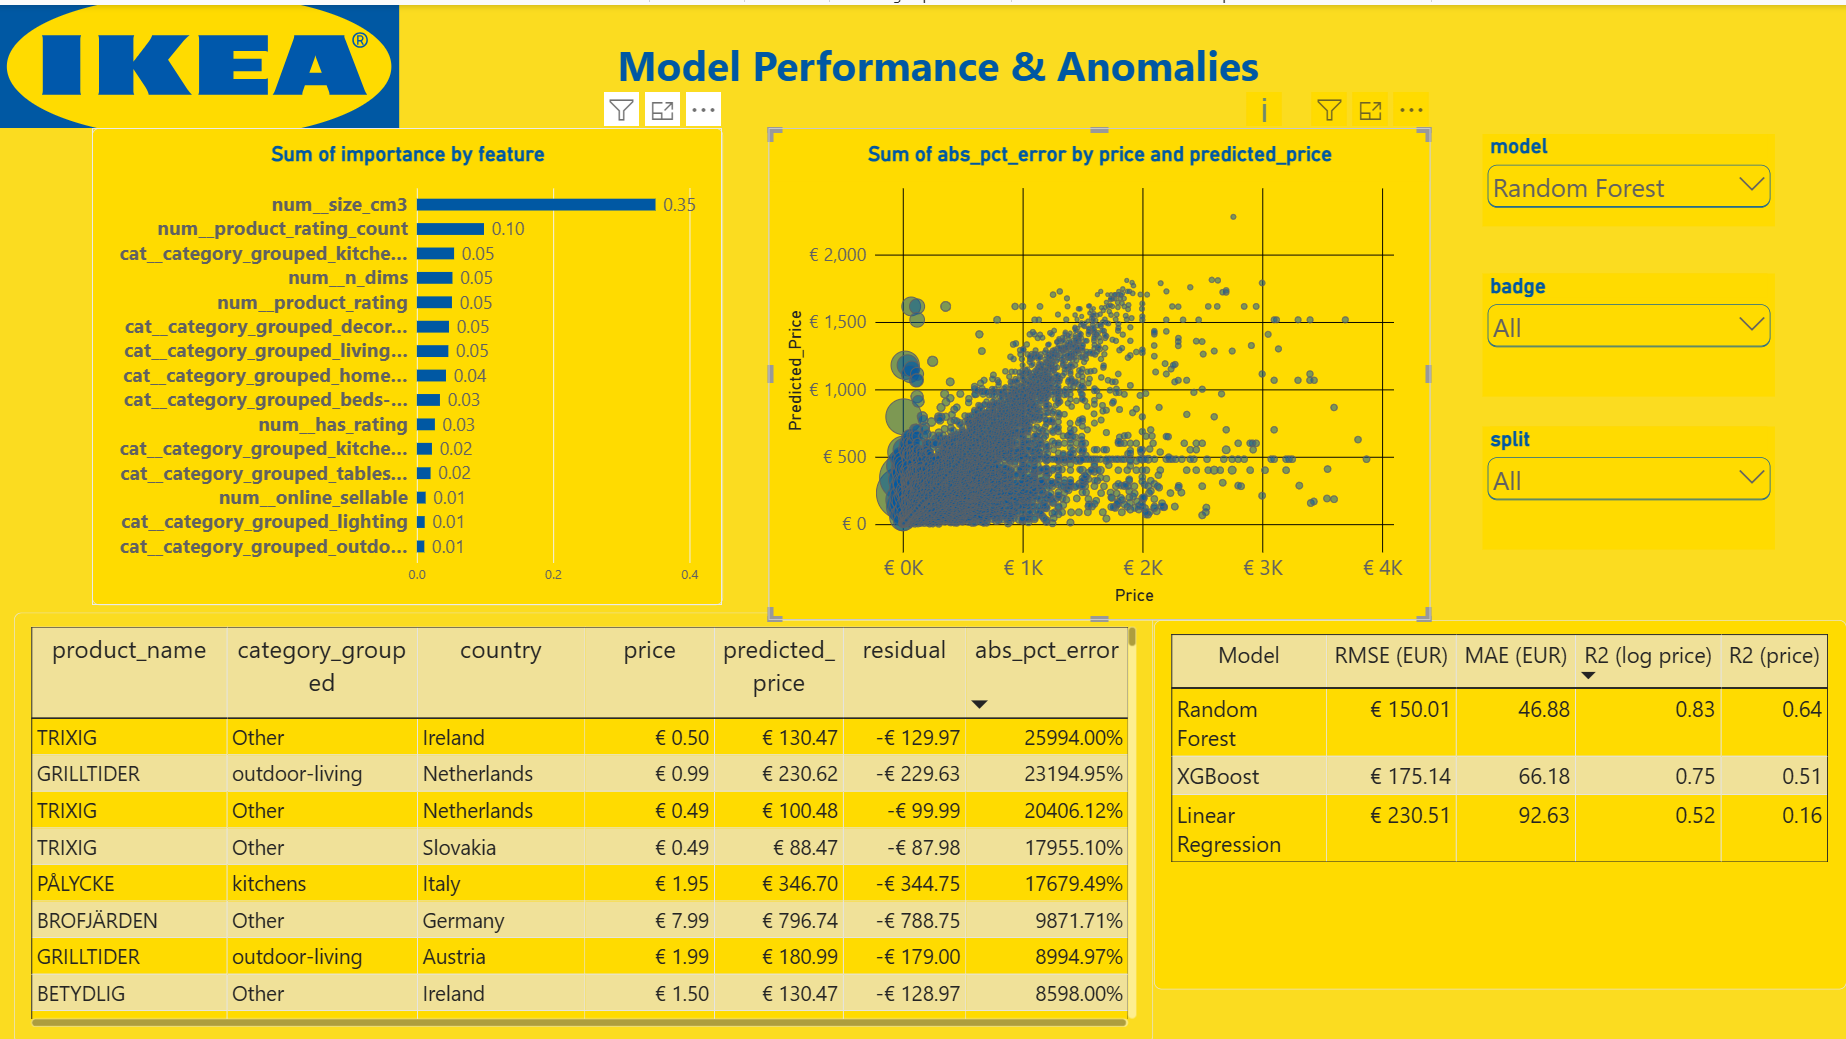

What the dashboard file says about the page in this screenshot:
{"tool":"powerbi","page":{"name":"Model Performance & Anomalies","canvas":[1920,1080],"ordinal":1},"visuals":[{"type":"scatterChart","fields":{"Size":["Sum(fact_price.abs_pct_error)"],"X":["fact_price.price"],"Y":["fact_price.predicted_price"]},"box":[800,128,688,512],"z":1000},{"type":"tableEx","fields":{"Values":["fact_price.product_name","fact_price.category_grouped","dim_country.country","fact_price.price","fact_price.predicted_price","fact_price.residual","fact_price.abs_pct_error"]},"box":[16,632,1184,448],"z":2000},{"type":"textbox","box":[416,32,1120,96],"z":4000},{"type":"tableEx","fields":{"Values":["model_results.Model","model_results.RMSE (EUR)","model_results.MAE (EUR)","model_results.R2 (log price)","model_results.R2 (price)"]},"box":[1200,640,720,384],"z":5000},{"type":"image","box":[0,0,416,128],"z":7000},{"type":"slicer","fields":{"Values":["fact_price.badge"]},"box":[1542.7,278.7,304,128],"z":8000},{"type":"slicer","fields":{"Values":["fact_price.split"]},"box":[1542.7,438.7,304,128],"z":9000},{"type":"slicer","fields":{"Values":["feature_importance.model"]},"box":[1542.7,134.7,304,96],"z":10000},{"type":"clusteredBarChart","fields":{"Category":["feature_importance.feature"],"Y":["Sum(feature_importance.importance)"]},"box":[96,128,656,496],"z":10001}]}

Visuals, with their boxes in screenshot pixels (x1, y1, x2, y2), scaled from the page's 1920x1080 canvas onto the 1846x1039 screenshot:
scatterChart - Sum(fact_price.abs_pct_error) x fact_price.price: box(769, 123, 1431, 616)
tableEx - fact_price.product_name x fact_price.category_grouped: box(15, 608, 1154, 1038)
textbox: box(400, 31, 1477, 123)
tableEx - model_results.Model x model_results.RMSE (EUR): box(1154, 616, 1845, 985)
image: box(0, 0, 400, 123)
slicer - fact_price.badge: box(1483, 268, 1776, 391)
slicer - fact_price.split: box(1483, 422, 1776, 545)
slicer - feature_importance.model: box(1483, 130, 1776, 222)
clusteredBarChart - feature_importance.feature x Sum(feature_importance.importance): box(92, 123, 723, 600)
